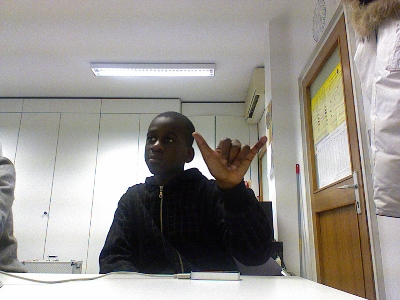六六六: (190, 127, 268, 188)
